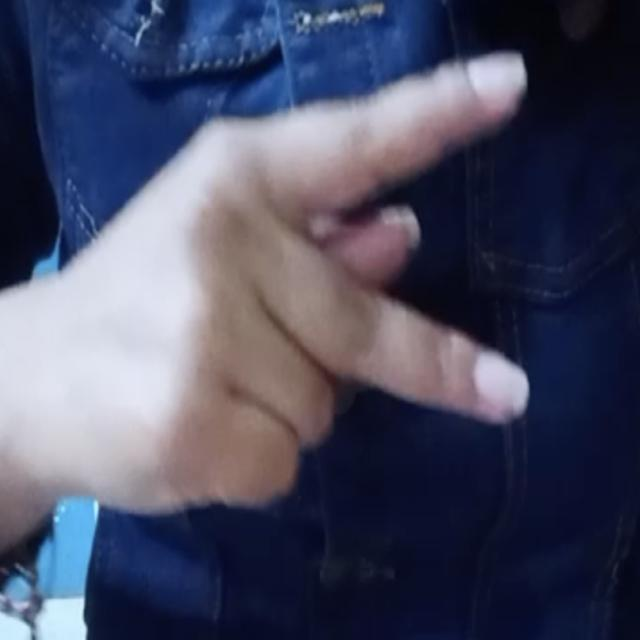K: (22, 38, 542, 530)
